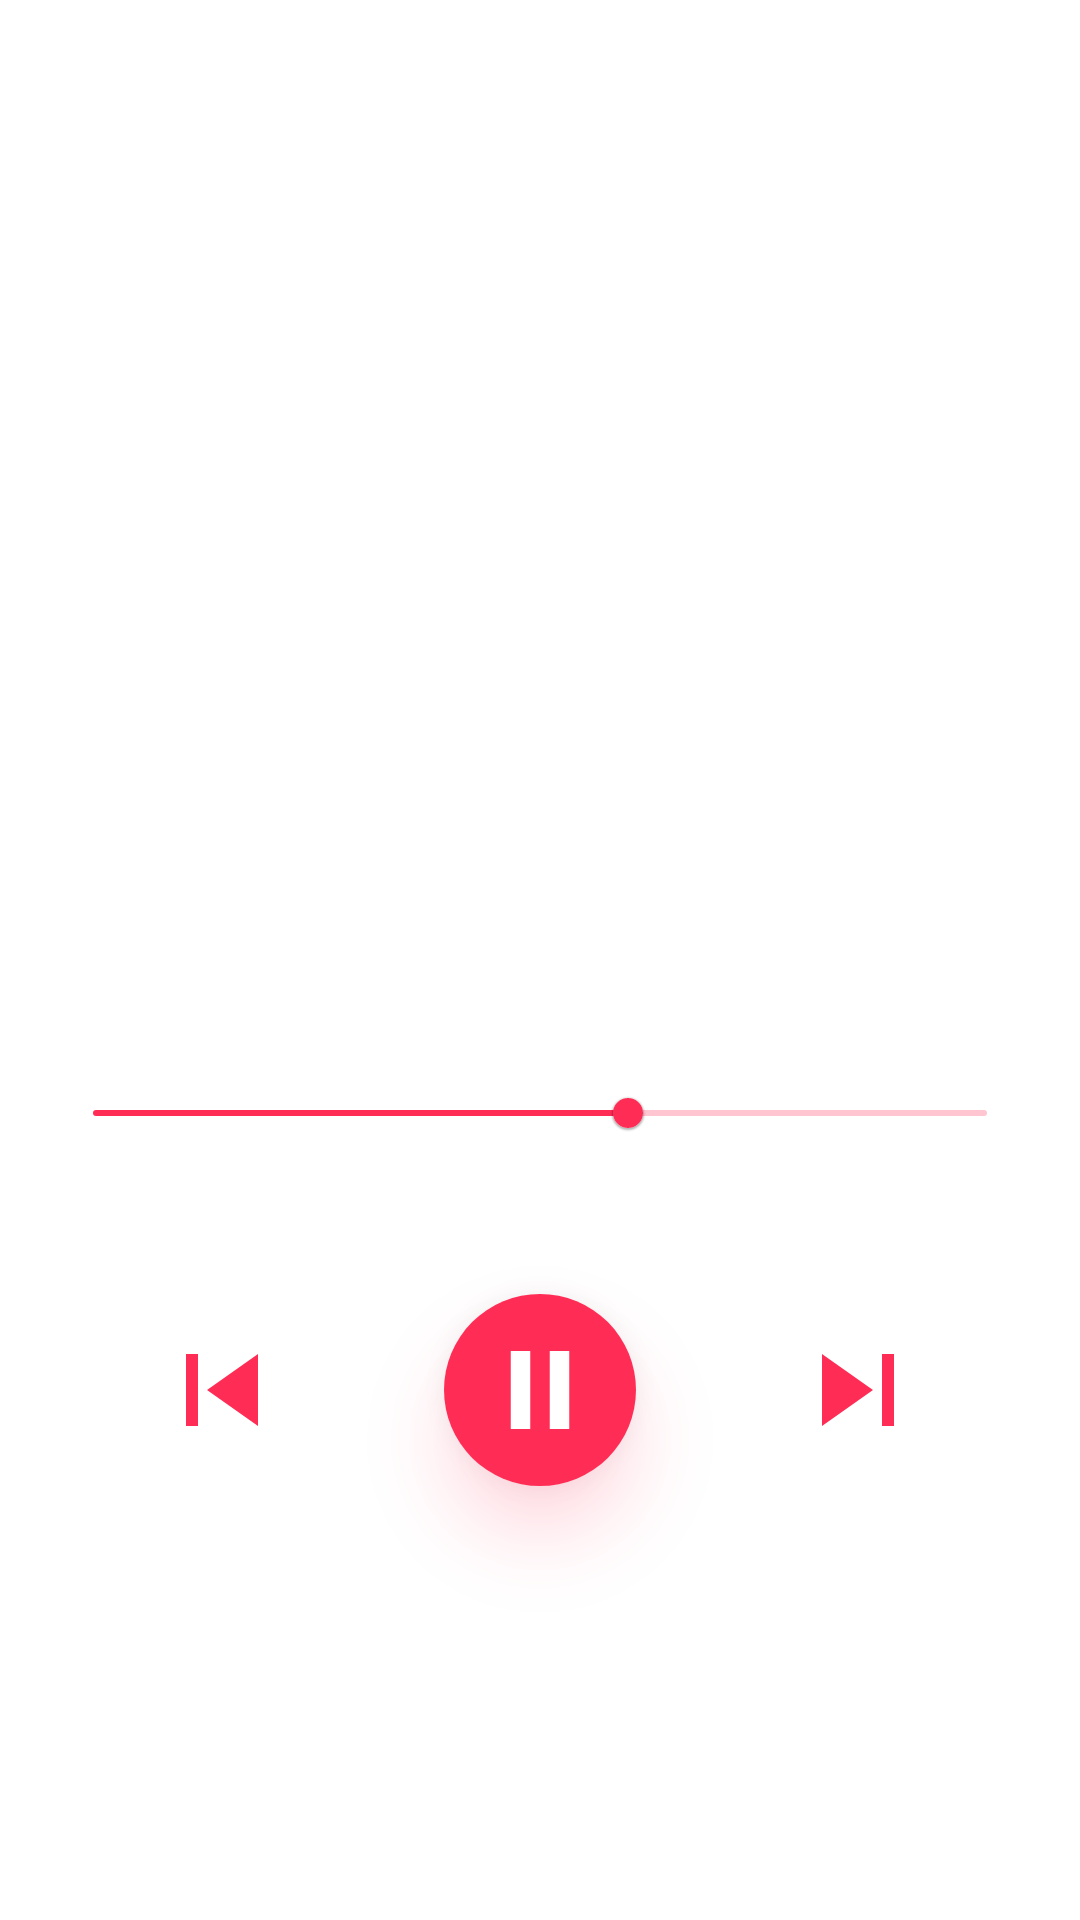

Named icons in this screenshot (1080 x 1920) and their bounding boxes, (x1, y1, x2, y2):
next: (822, 1354, 894, 1426)
previous: (186, 1354, 258, 1426)
